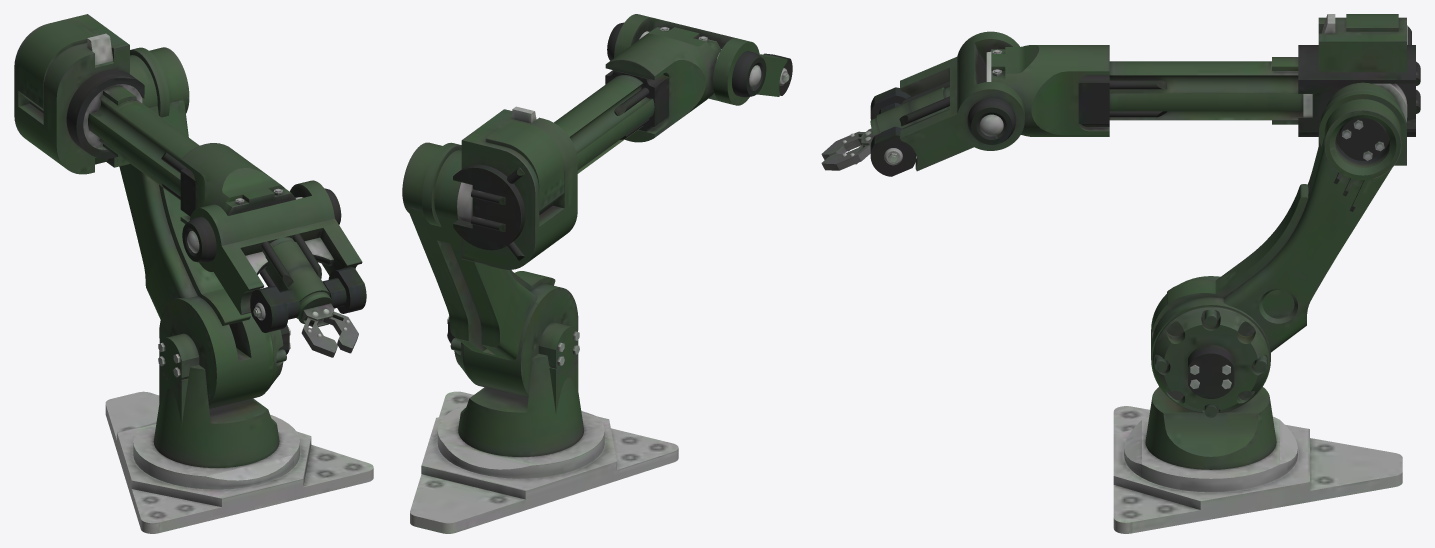
File: SM_WorkBenchElectric_RoboArm_b5a66a.glb
3 renders of one model, left to right at view 1: azimuth 30°, elevation 25°; view 2: azimuth 150°, elevation 25°; view 3: azimuth 270°, elevation 25°, orthographic. The views are drawn at different scales.
Size of the model in its own units: 1.27 by 2.01 by 2.56.
Materials: 1 (1 with a texture image).
